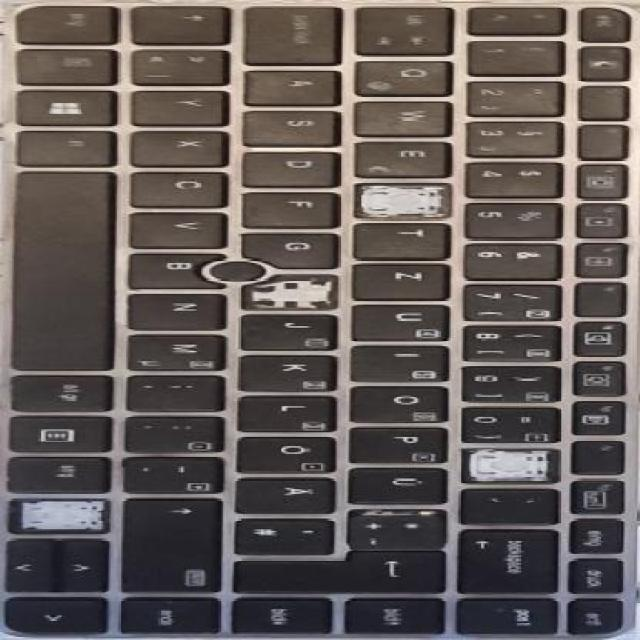Keyboard problems: (463, 449, 557, 482), (15, 498, 108, 531), (245, 277, 335, 308), (358, 186, 448, 215)
